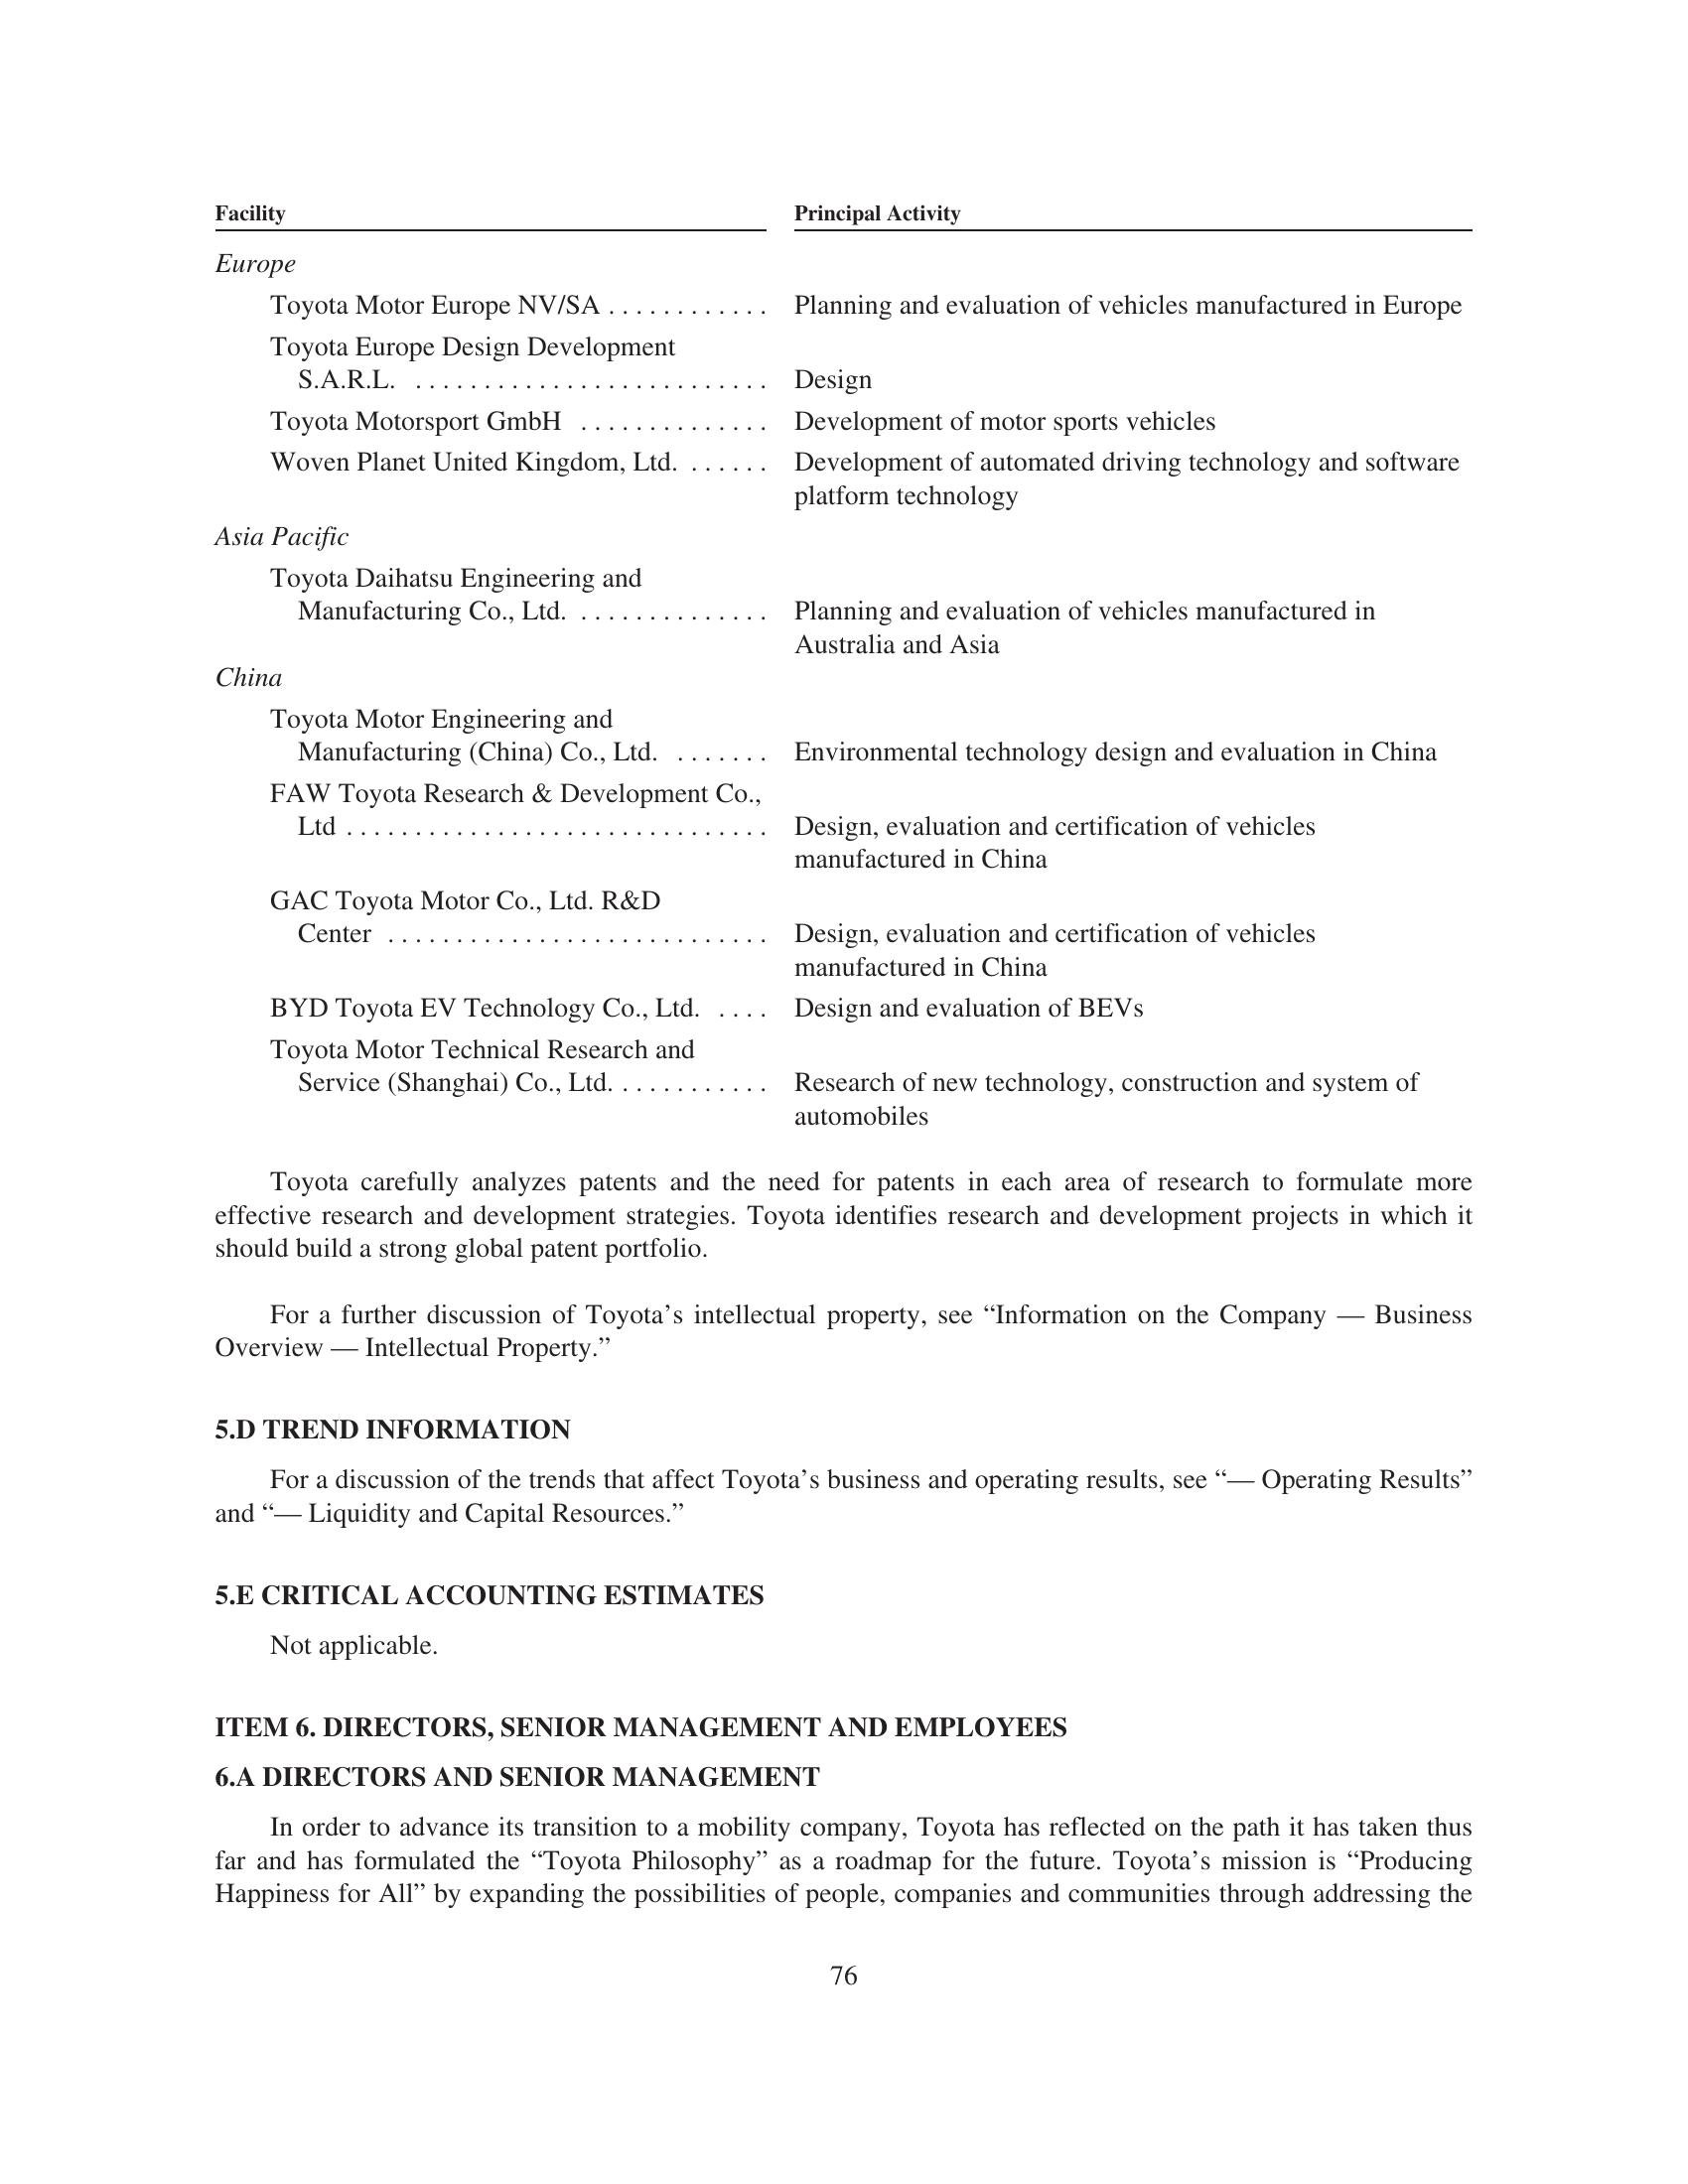Footer: (0, 1950, 1688, 2184)
Header: (0, 0, 1688, 175)
Table: (117, 238, 1525, 1145)
